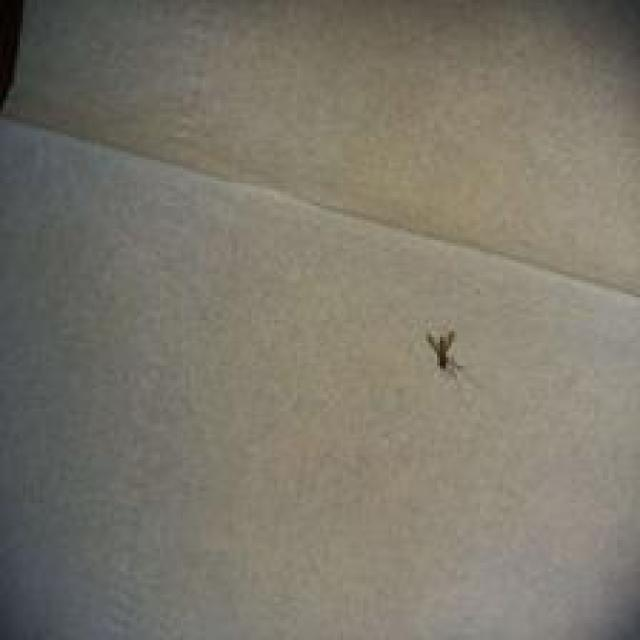Culex: (424, 329, 464, 377)
